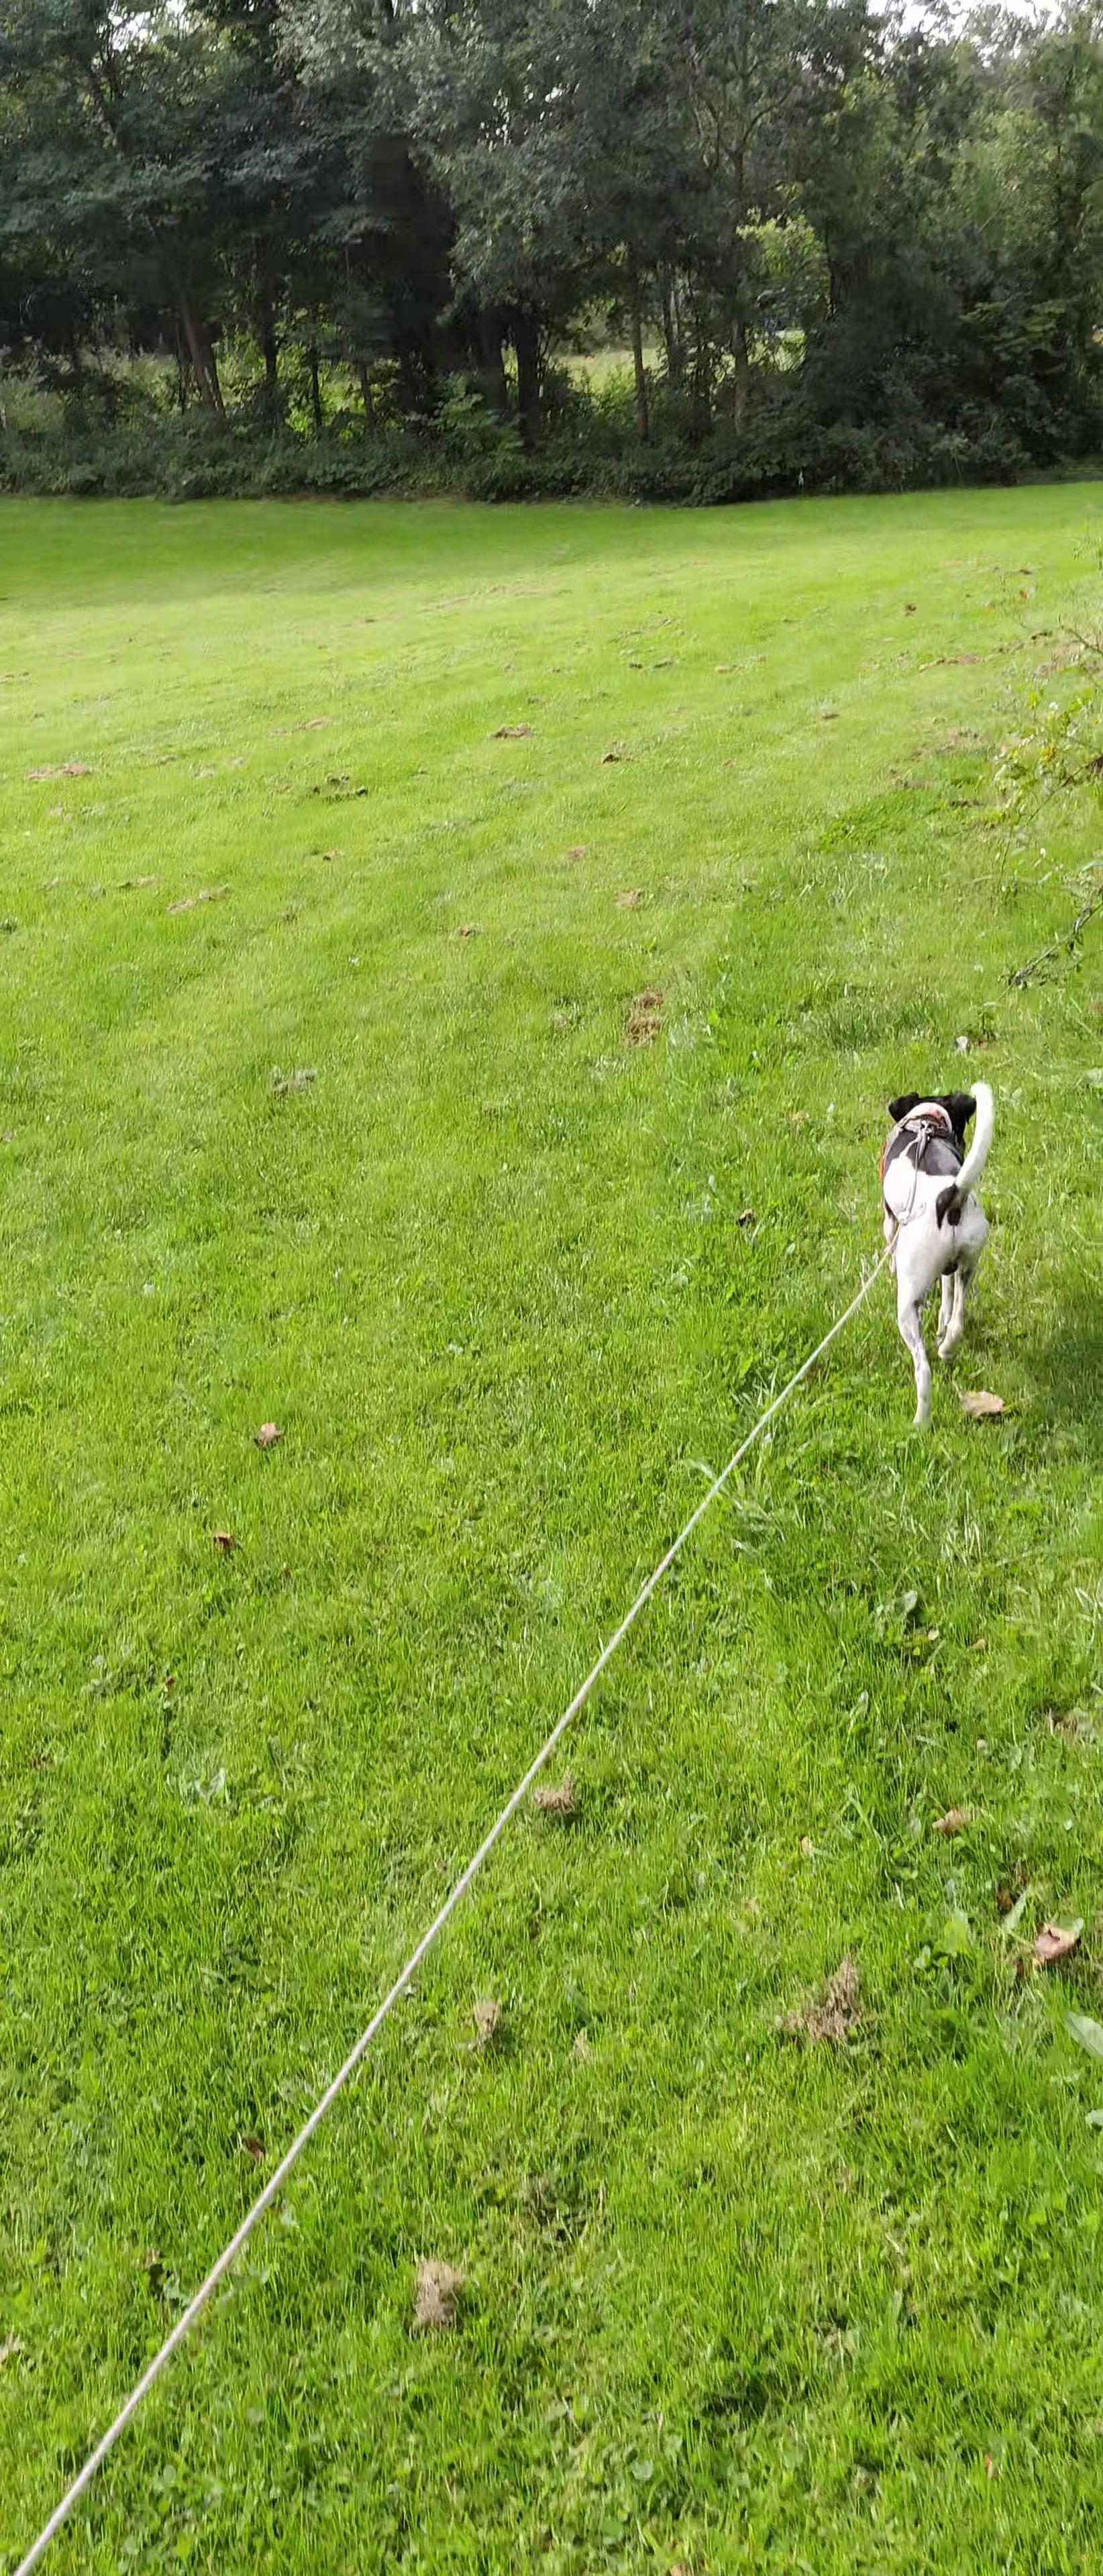Dog: (868, 1074, 1008, 1433)
